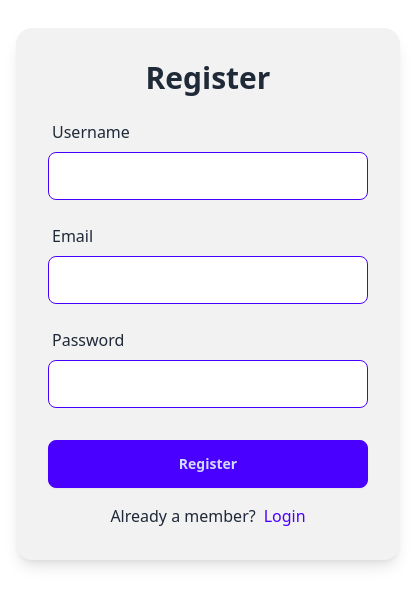
it: register page › submits form with invalid username will show error and prevent submission
Type "ni" into the field labelled "Username" at (208, 176), box [48,152,368,200]
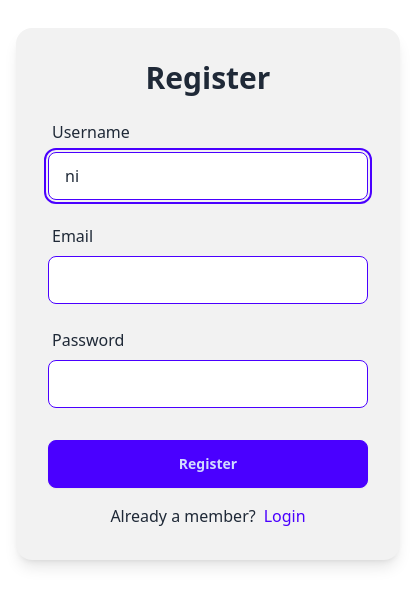
Type "n@mail.com" into the field labelled "Email" at (208, 280), box [48,256,368,304]
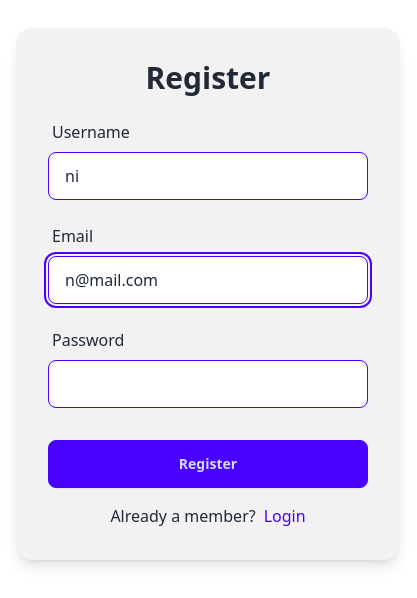
Type "password" into the password field labelled "Password" at (208, 384), box [48,360,368,408]
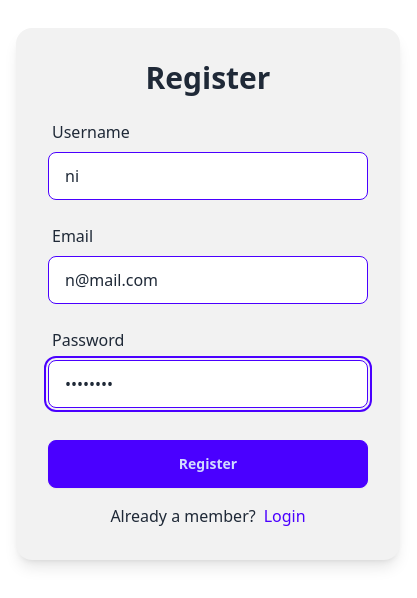
Click the button "Register" at (208, 464), box [48,440,368,488]
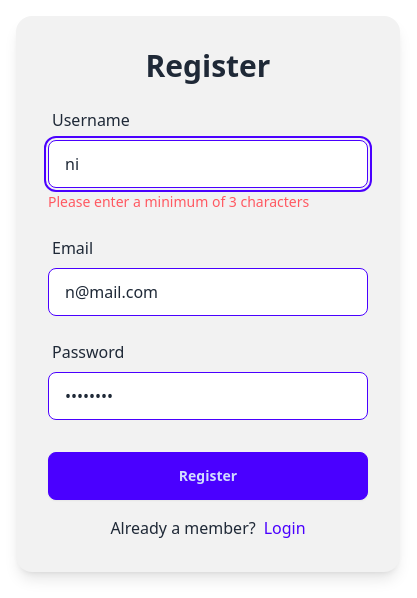
Result: the text "Please enter a minimum of 3 characters" is shown at [48,192,309,211]
